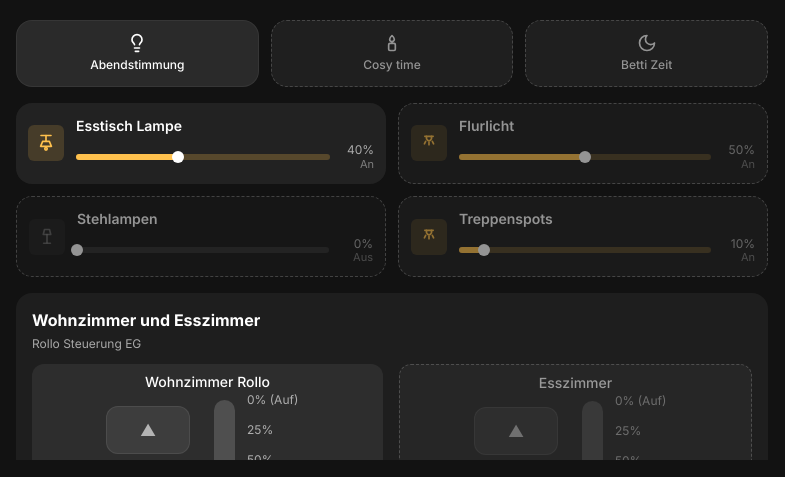
Test case: HomeDashboardView fine dial scrolling (ticket 9.6 W2-4, issue #45) › gives the dashboard its own vertical scroll port around all three zones (issue #45)
Expected: the element showing "Abendstimmung Cosy time Betti Zeit" is shown, left=16, top=20, right=768, bottom=87
Expected: the element with class "lightGrid" is shown, left=16, top=103, right=768, bottom=277
Click the element showing "Cosy time": (392, 53) left=271, top=20, right=513, bottom=87
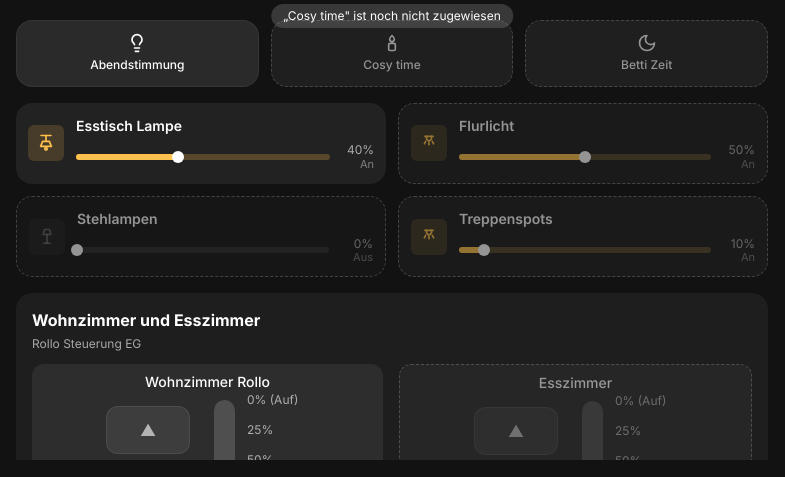
Expected: the message "„Cosy time\" ist noch nicht zugewiesen" is shown, left=271, top=4, right=513, bottom=28
